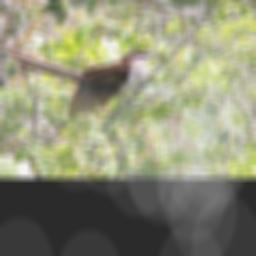Cuckoo: (34, 13, 179, 123)
